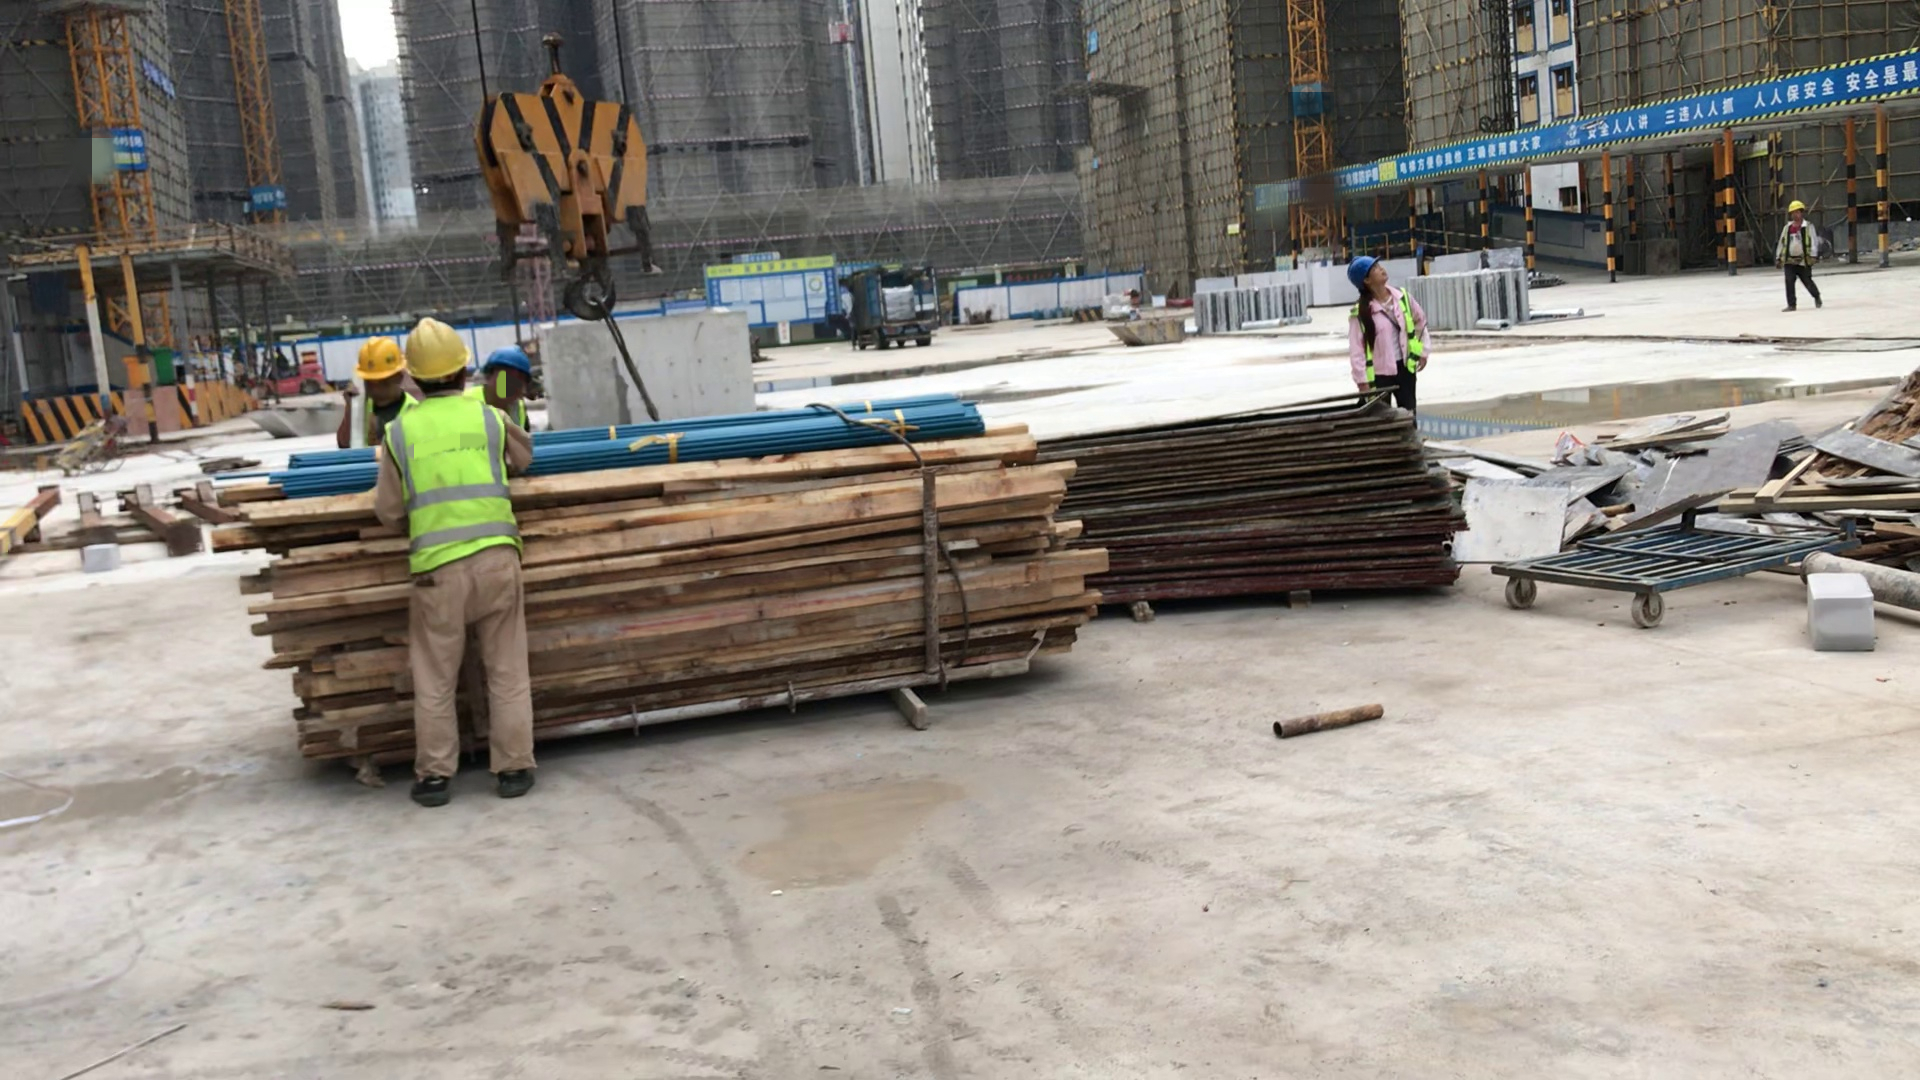board: (1051, 427, 1471, 602)
brick: (1295, 264, 1347, 306)
handcart: (1510, 508, 1847, 618), (53, 387, 148, 484)
helmet: (403, 314, 469, 383), (350, 330, 404, 399), (483, 339, 538, 398), (1346, 254, 1389, 285), (1787, 198, 1804, 216)
hook: (469, 65, 662, 311)
hopper: (248, 402, 343, 444), (1108, 316, 1185, 348)
person: (388, 316, 539, 802), (1341, 252, 1433, 427), (1770, 197, 1832, 318)
slogan: (1393, 89, 1734, 176), (1755, 58, 1920, 123), (138, 54, 186, 104), (103, 129, 150, 172), (243, 184, 291, 212), (1082, 28, 1107, 57)
vest: (389, 399, 529, 567), (1395, 285, 1426, 377)
wood: (263, 421, 1050, 784)
